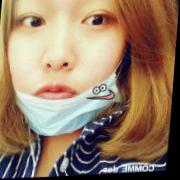WRONG: (1, 1, 141, 139)
